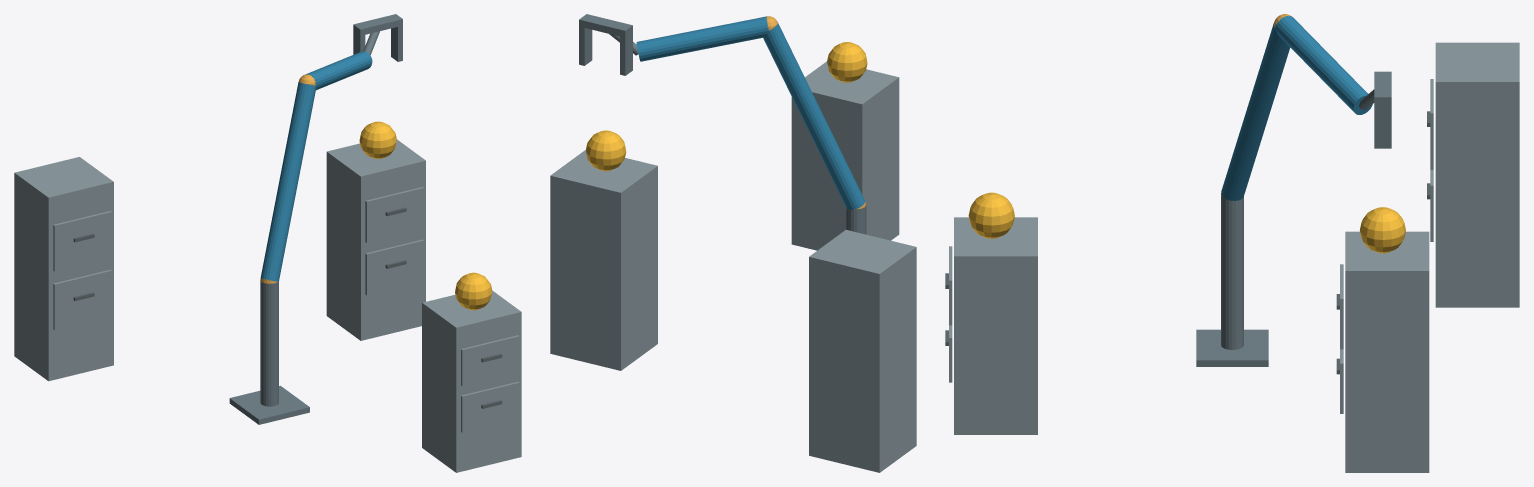
The picture shows the model from 3 angles, left to right: view 1: azimuth 30°, elevation 25°; view 2: azimuth 150°, elevation 25°; view 3: azimuth 270°, elevation 25°; orthographic projection. The views are drawn at different scales.
Parts seen in each view (by area): view 1: cabinet_3 body, cabinet_2 body, cabinet_1 body, moving link 1, cabinet_3 drawer front, cabinet_3 drawer front.001, cabinet_2 drawer front, cabinet_2 drawer front.001, fixed post, cabinet_1 drawer front, cabinet_1 drawer front.001, pedestal (+4 smaller); view 2: cabinet_3 body, cabinet_2 body, cabinet_1 body, moving link 1, moving link 2, ball ball_2, released ball_1, gripper bridge, fixed post, gripper finger 1, gripper finger -1; view 3: cabinet_3 body, cabinet_2 body, cabinet_1 body, moving link 1, fixed post, moving link 2, pedestal, ball ball_2, released ball_1, gripper finger 1, gripper bridge.
Boxes of the visible parts, bbox=[...] form: cabinet_3 body: bbox=[14, 157, 113, 381]; cabinet_2 body: bbox=[326, 139, 425, 340]; cabinet_1 body: bbox=[422, 290, 521, 472]; moving link 1: bbox=[260, 82, 316, 281]; cabinet_3 drawer front: bbox=[53, 269, 111, 330]; cabinet_3 drawer front.001: bbox=[53, 211, 111, 271]; cabinet_2 drawer front: bbox=[365, 239, 424, 295]; cabinet_2 drawer front.001: bbox=[365, 187, 424, 242]; fixed post: bbox=[260, 279, 278, 406]; cabinet_1 drawer front: bbox=[461, 381, 519, 432]; cabinet_1 drawer front.001: bbox=[461, 335, 519, 386]; pedestal: bbox=[229, 385, 309, 424]; cabinet_3 body: bbox=[809, 230, 916, 472]; cabinet_2 body: bbox=[550, 150, 657, 370]; cabinet_1 body: bbox=[791, 61, 899, 250]; moving link 1: bbox=[763, 22, 865, 209]; moving link 2: bbox=[636, 16, 768, 61]; ball ball_2: bbox=[586, 130, 626, 171]; released ball_1: bbox=[827, 42, 867, 82]; gripper bridge: bbox=[579, 14, 632, 37]; fixed post: bbox=[846, 204, 866, 234]; gripper finger 1: bbox=[579, 26, 592, 65]; gripper finger -1: bbox=[620, 32, 632, 75]; cabinet_3 body: bbox=[1435, 42, 1519, 307]; cabinet_2 body: bbox=[1345, 231, 1429, 472]; cabinet_1 body: bbox=[954, 217, 1037, 434]; moving link 1: bbox=[1221, 22, 1290, 200]; fixed post: bbox=[1221, 195, 1243, 349]; moving link 2: bbox=[1275, 16, 1372, 114]; pedestal: bbox=[1196, 329, 1268, 366]; ball ball_2: bbox=[1359, 207, 1405, 253]; released ball_1: bbox=[968, 192, 1014, 238]; gripper finger 1: bbox=[1374, 105, 1391, 148]; gripper bridge: bbox=[1374, 71, 1391, 105].
Size of the model in its own units: 1.67 by 1.42 by 1.98.
